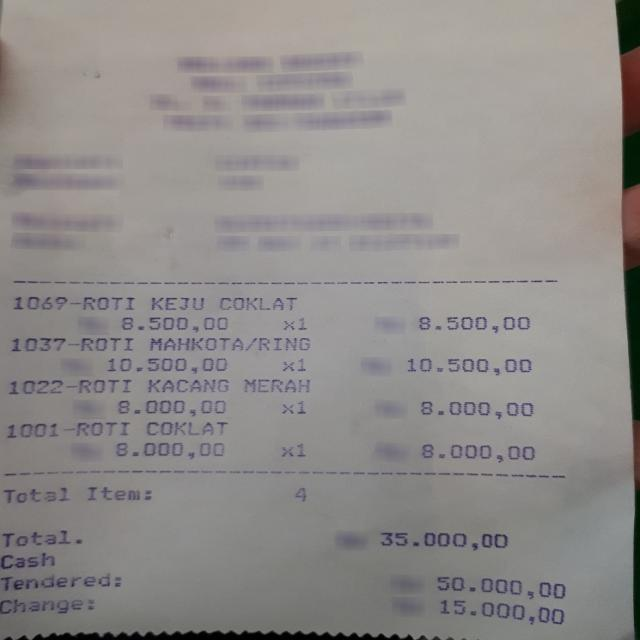text: (438, 600, 566, 628), (433, 576, 564, 600), (0, 570, 122, 590), (380, 532, 507, 551), (405, 358, 531, 376), (3, 420, 128, 438), (421, 443, 533, 463), (418, 400, 532, 419), (106, 357, 226, 374), (6, 378, 130, 394), (148, 338, 308, 350), (0, 596, 96, 616), (115, 441, 223, 458), (418, 316, 530, 332), (117, 399, 222, 415), (120, 316, 224, 332), (11, 296, 133, 309), (9, 337, 130, 350), (1, 529, 80, 547), (0, 549, 54, 573), (144, 420, 224, 434), (1, 486, 68, 502), (147, 378, 227, 391), (244, 377, 308, 392), (86, 485, 149, 500), (219, 296, 296, 308), (149, 296, 202, 308), (282, 400, 305, 413), (280, 443, 303, 456), (281, 357, 303, 370), (283, 316, 305, 328), (294, 487, 305, 501)
